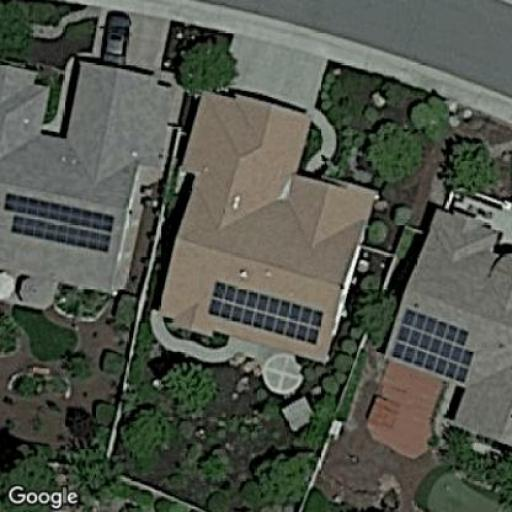solar-panel: (205, 280, 325, 346), (3, 191, 115, 252), (389, 307, 477, 381)
